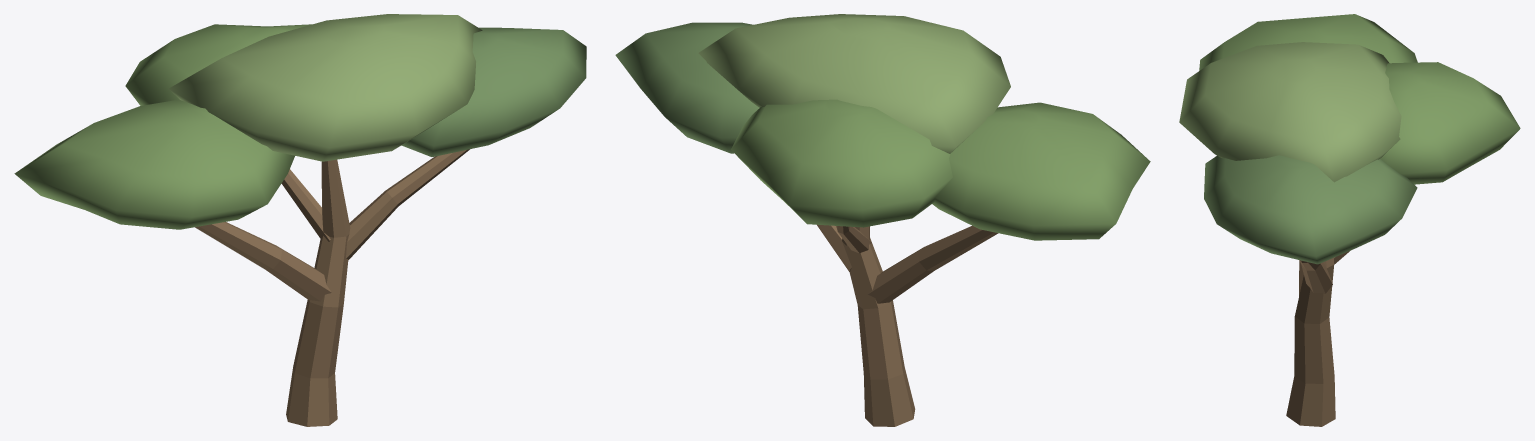
Rendered from acacia-spread.glb.
The picture shows the model from 3 angles, left to right: view 1: azimuth 30°, elevation 25°; view 2: azimuth 150°, elevation 25°; view 3: azimuth 270°, elevation 25°; orthographic projection. The views are drawn at different scales.
Visible parts, largest first — view 1: acacia-spread; view 2: acacia-spread; view 3: acacia-spread.
Part boxes in pixels (bbox=[...]): acacia-spread: bbox=[14, 14, 586, 426]; acacia-spread: bbox=[615, 14, 1150, 426]; acacia-spread: bbox=[1179, 14, 1520, 426].
Size of the model in its own units: 10.03 by 6.79 by 5.77.
